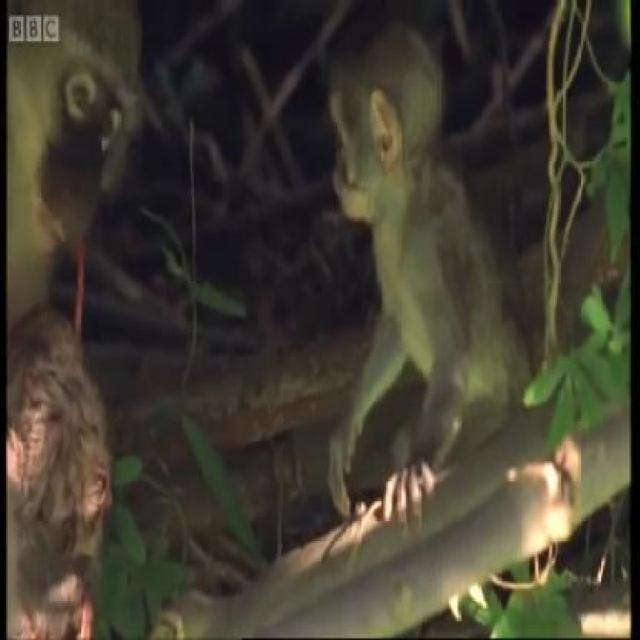Monkey: (300, 0, 548, 569), (8, 0, 161, 637)
